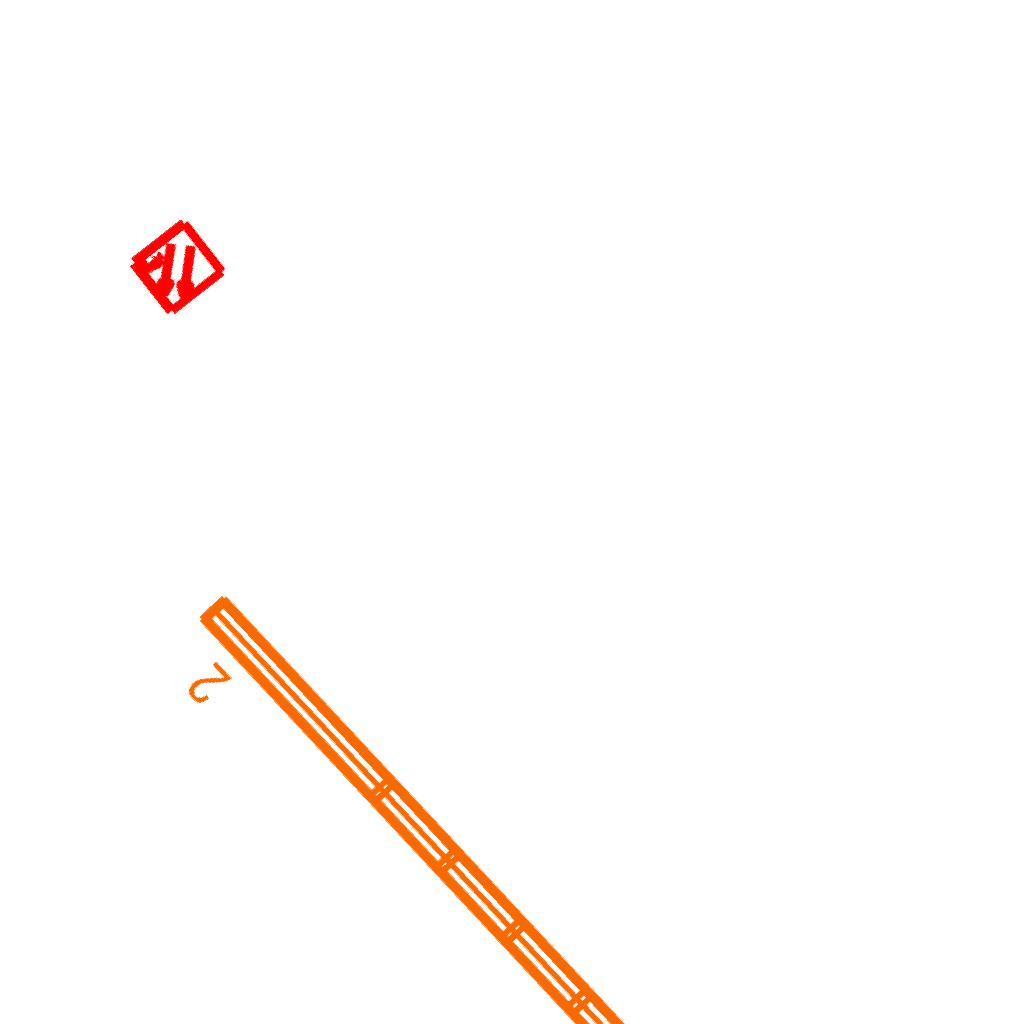Ambulanz_Pendelleuchte_LED: (145, 578, 755, 1024)
OT_Multisensormelder_(Kombination_RMO_WMD): (96, 189, 255, 348)
